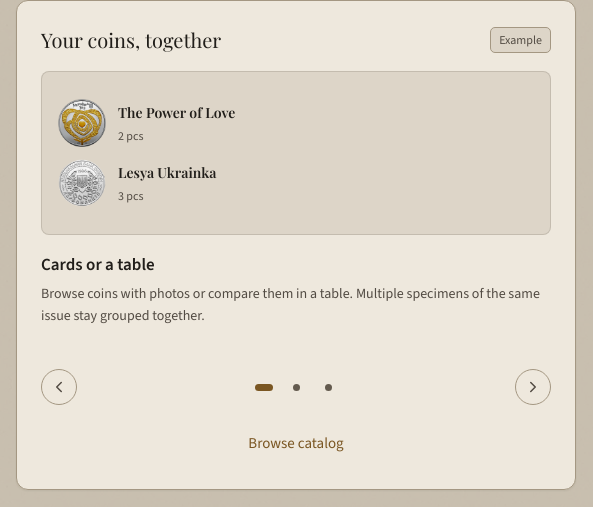
Scenario: collection onboarding › accepts horizontal swipes and leaves vertical scrolling alone
Press the mouse on the element that starts with "The Power of Love" at coordinates (296, 212), box [41,71,551,353]
Expected: the heading "Cards or a table" is shown, [41,253,155,276]
Press the mouse on the element that starts with "The Power of Love" at coordinates (296, 212), box [41,71,551,353]
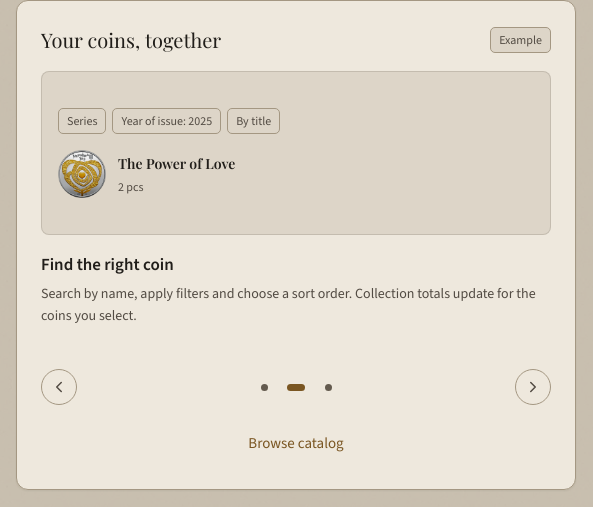
Expected: the heading "Find the right coin" is shown, [41,253,174,276]
